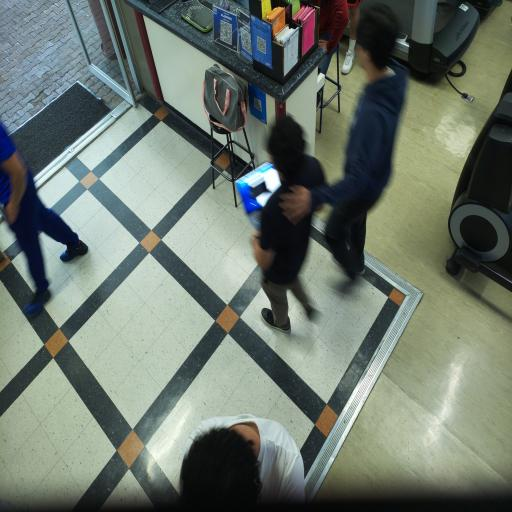person: (281, 5, 408, 278), (0, 123, 87, 314), (253, 117, 324, 332), (181, 414, 304, 509), (317, 0, 348, 74), (342, 0, 361, 74)
